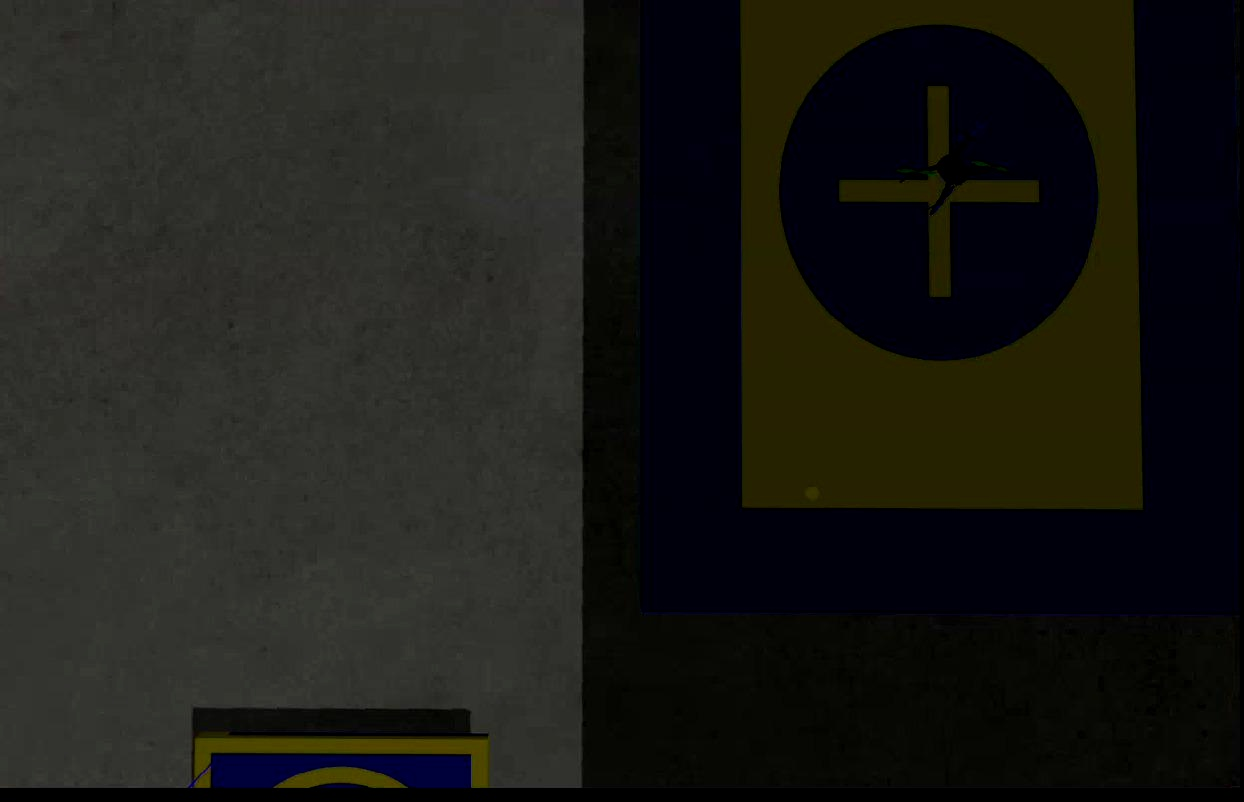large_base: (637, 1, 1244, 613)
small_base: (193, 730, 490, 792)
